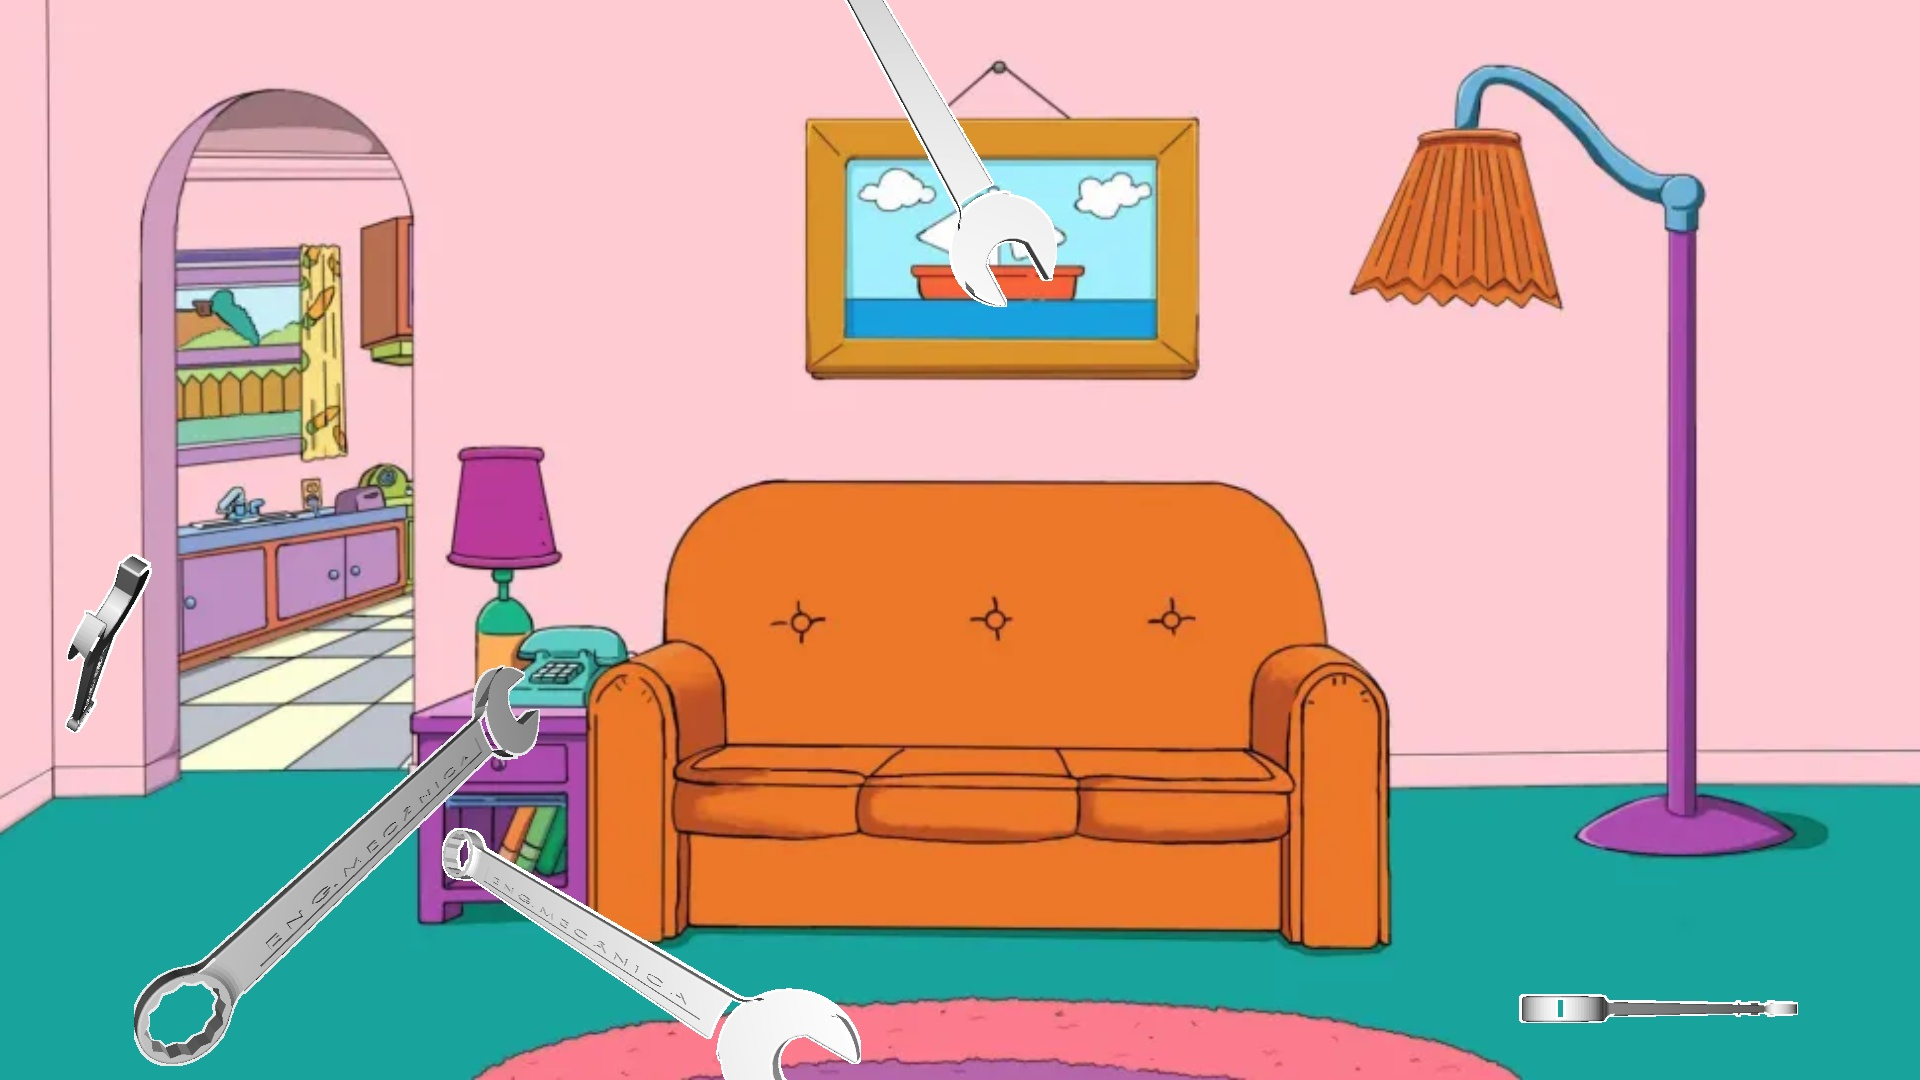Mixed Key: (135, 665, 539, 1065), (442, 828, 860, 1079), (844, 0, 1056, 306), (65, 554, 152, 732), (1519, 994, 1797, 1022)
